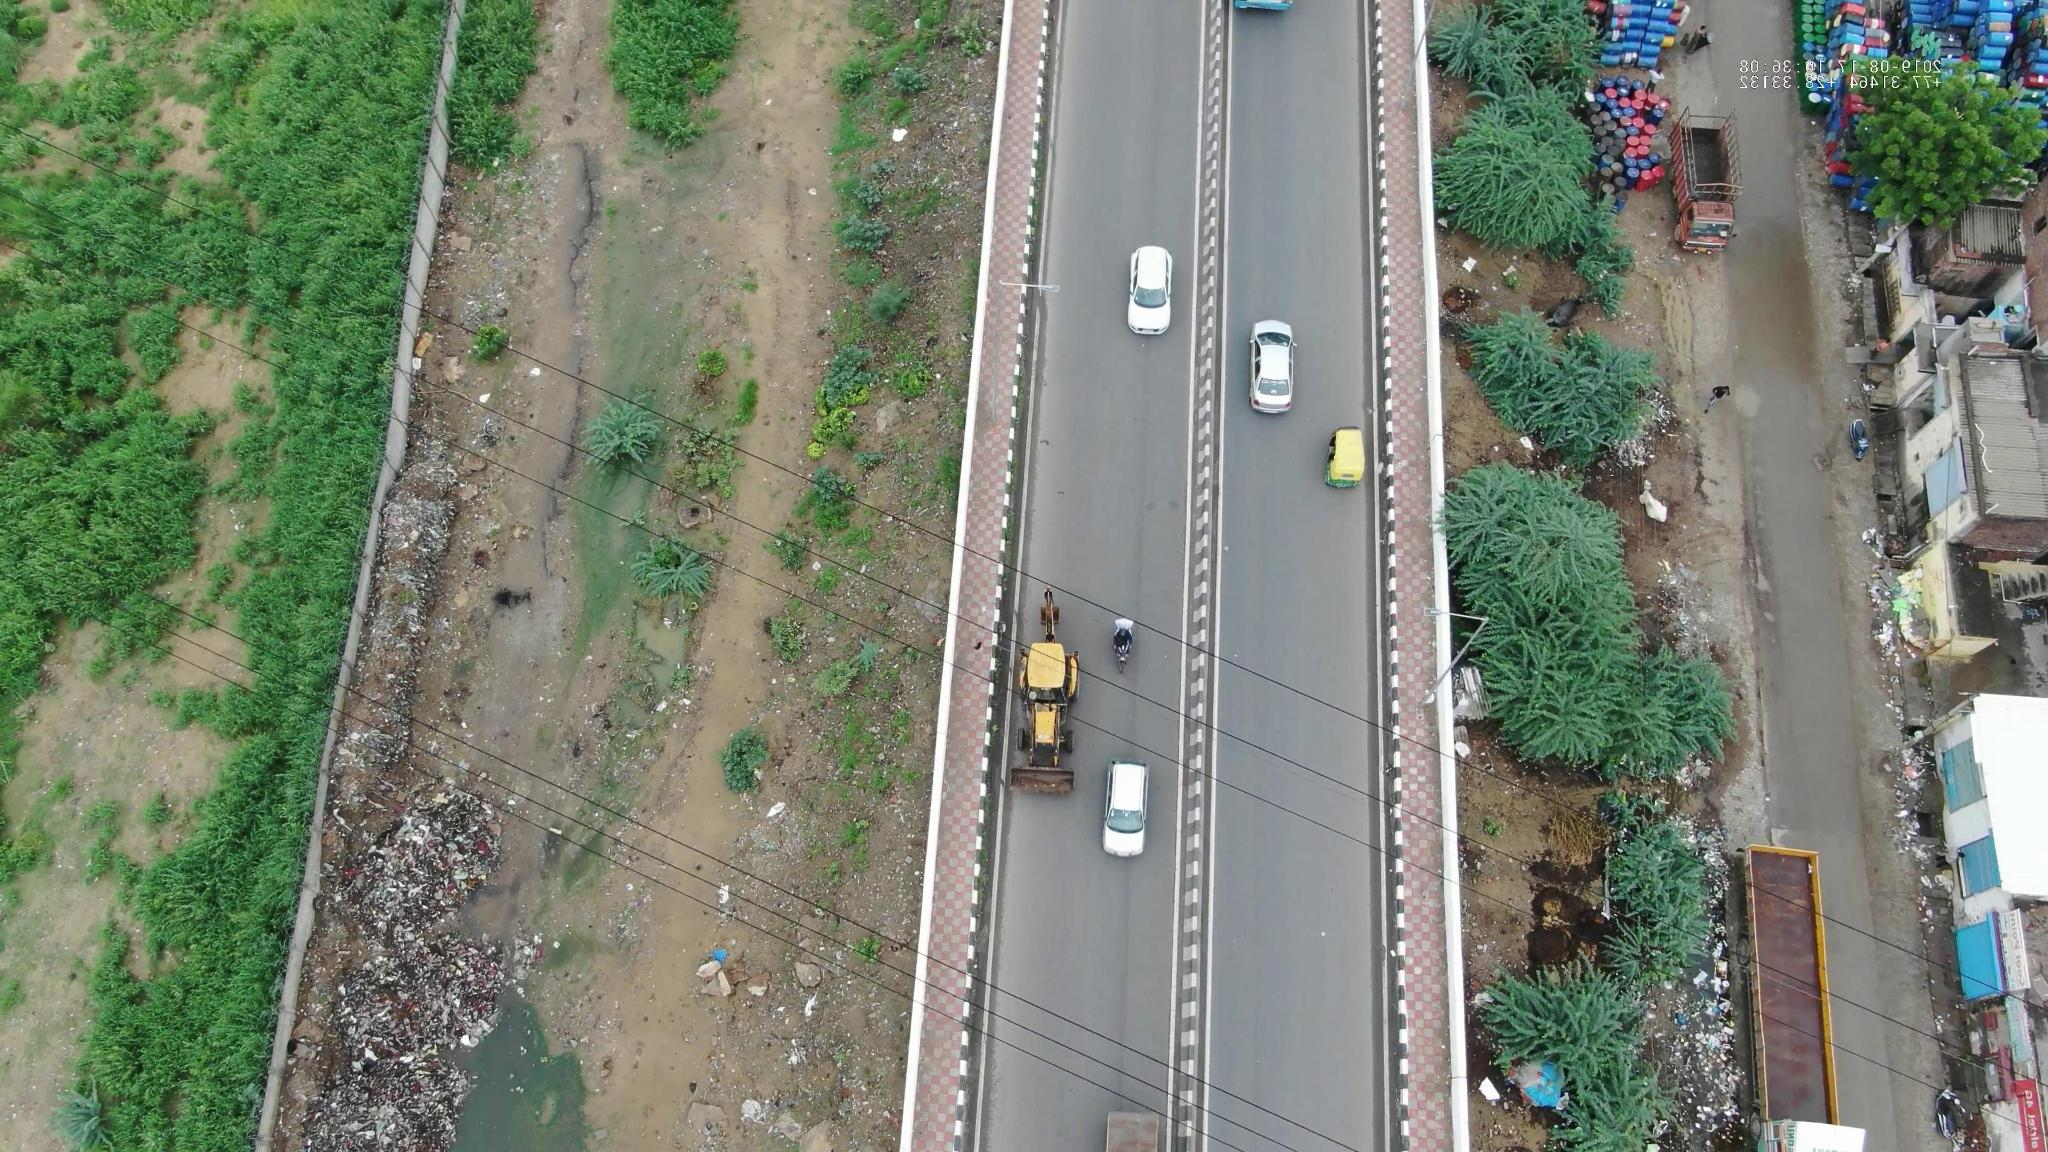Road_side_garbage: (308, 762, 547, 1148), (364, 440, 463, 750), (1658, 890, 1753, 1122)
